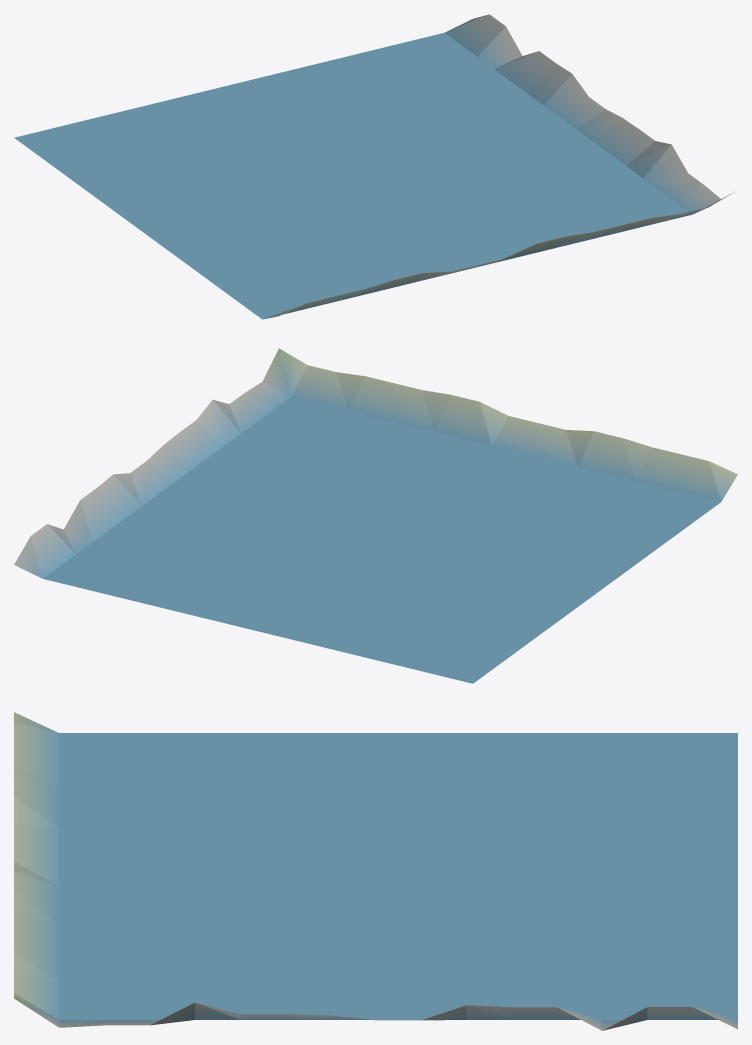
3 renders of one model, top to bottom at view 1: azimuth 30°, elevation 25°; view 2: azimuth 150°, elevation 25°; view 3: azimuth 270°, elevation 25°, orthographic. The views are drawn at different scales.
Bounding box in the file's own units: 32 × 1.98 × 32.
